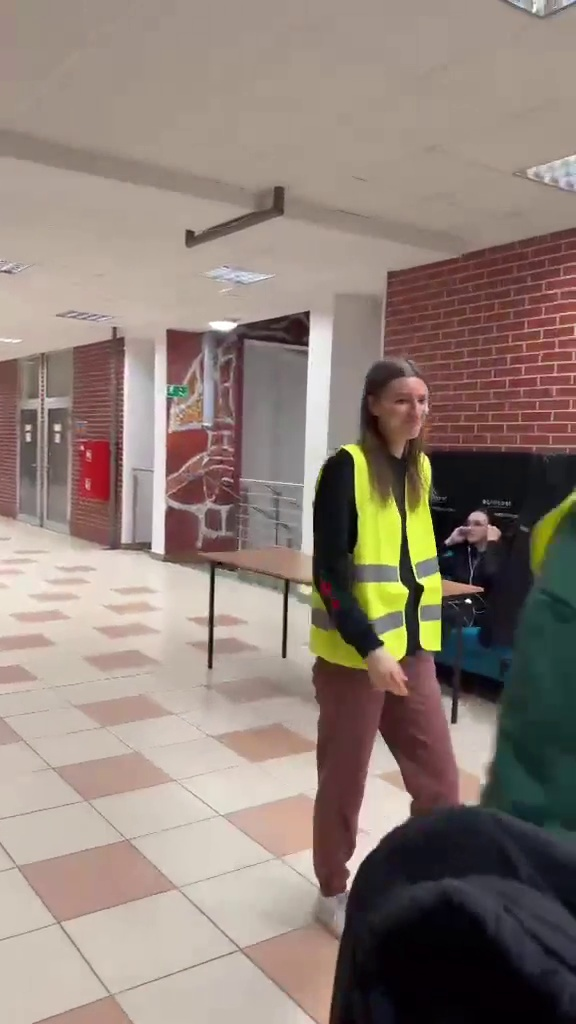no vest: (432, 504, 523, 642)
vest: (306, 354, 463, 879)
